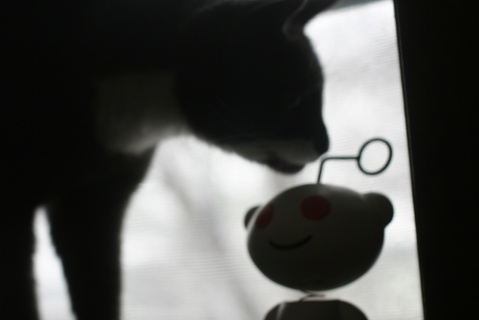Cat: (0, 0, 345, 319)
